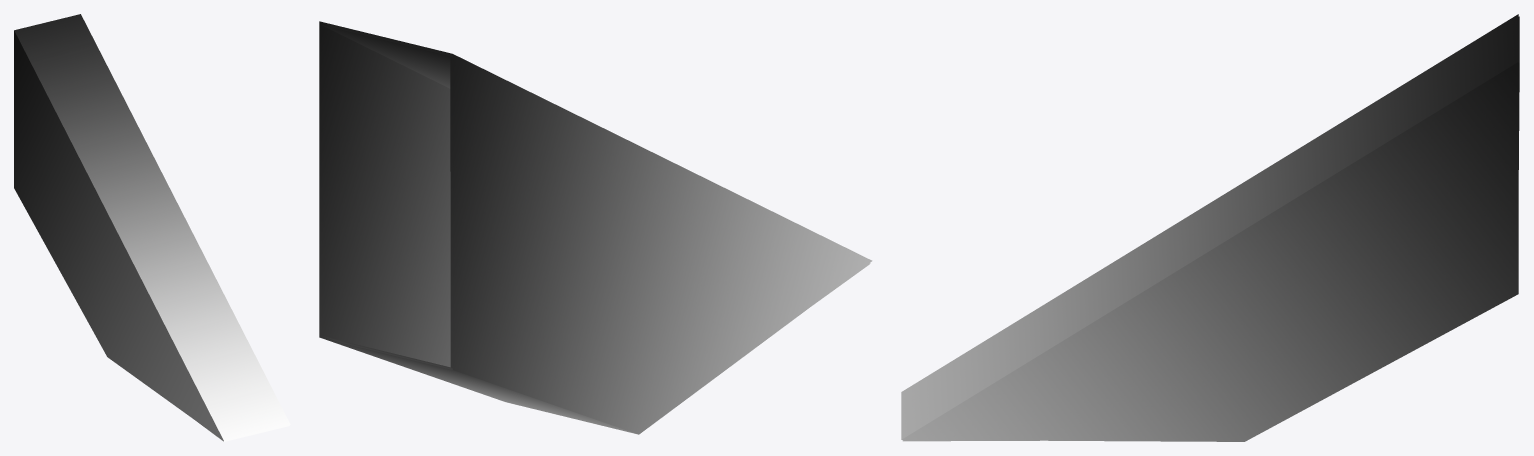
Rendered from God_Ray.fbx.
3 renders of one model, left to right at view 1: azimuth 30°, elevation 25°; view 2: azimuth 150°, elevation 25°; view 3: azimuth 270°, elevation 25°, orthographic. The views are drawn at different scales.
Visible parts, largest first — view 1: Outer_Gradient; view 2: Outer_Gradient, Inner_Gradient; view 3: Outer_Gradient.
Part boxes in pixels (x1,y1,x2,y2): Outer_Gradient: (14, 14, 290, 441); Outer_Gradient: (319, 21, 872, 434); Inner_Gradient: (320, 24, 870, 369); Outer_Gradient: (901, 14, 1518, 441).
Size of the model in its own units: 868 by 3217 by 4743.
